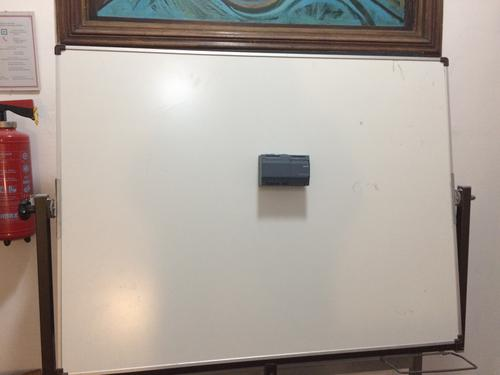iot2000: (257, 153, 310, 186)
